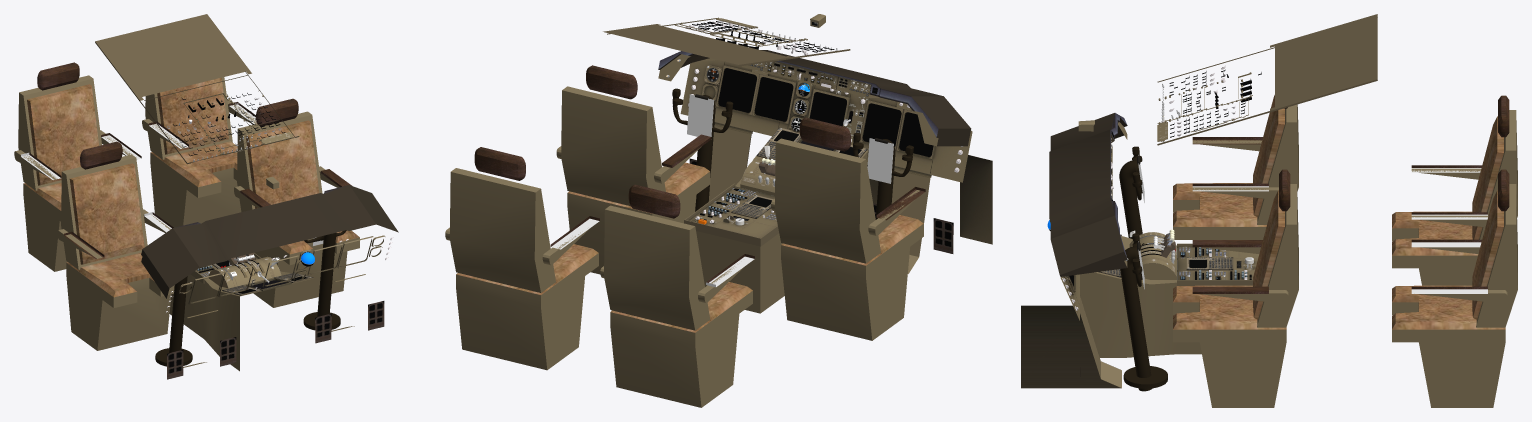
The model's file is interior.gltf.
The picture shows the model from 3 angles, left to right: view 1: azimuth 30°, elevation 25°; view 2: azimuth 150°, elevation 25°; view 3: azimuth 270°, elevation 25°; orthographic projection. The views are drawn at different scales.
Parts seen in each view (by area): view 1: Interior; view 2: Interior; view 3: Interior.
Part boxes in pixels (x1=…): Interior: x1=14, y1=14, x2=398, y2=379; Interior: x1=445, y1=14, x2=992, y2=407; Interior: x1=1021, y1=14, x2=1517, y2=407.
Size of the model in its own units: 1.91 by 1.72 by 2.59.
101 materials, 74 textured.
